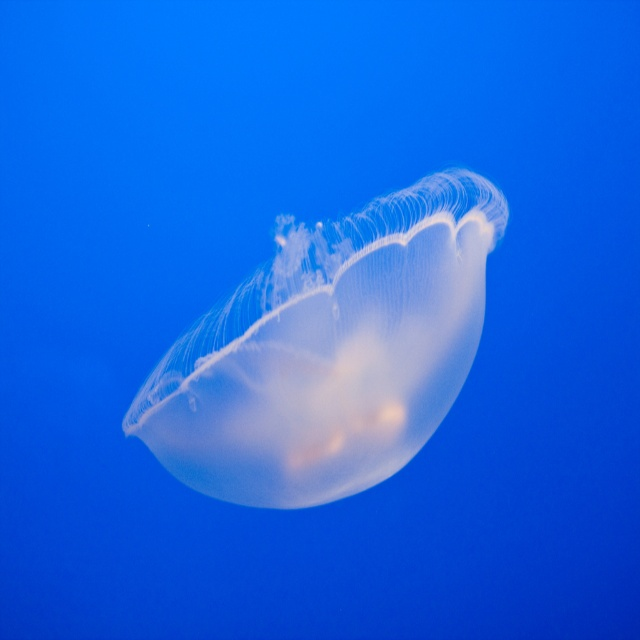Jellyfish: (121, 168, 524, 513)
